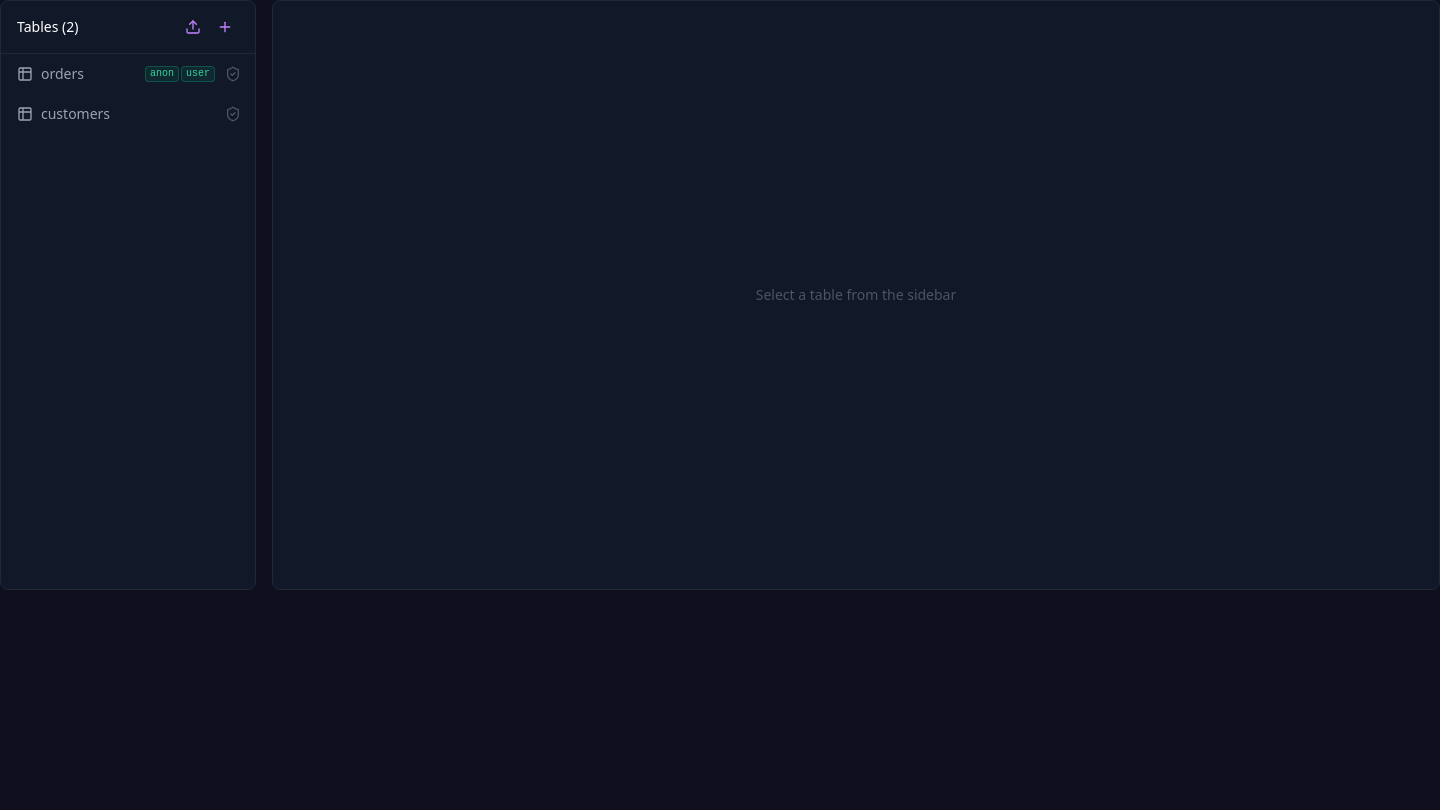
create table with public read › unchecked: the table is created and no permission is written
The width and height of the screenshot is (1440, 810).
Click the button with test id "new-table-btn" at (225, 27), box [211, 13, 239, 41]
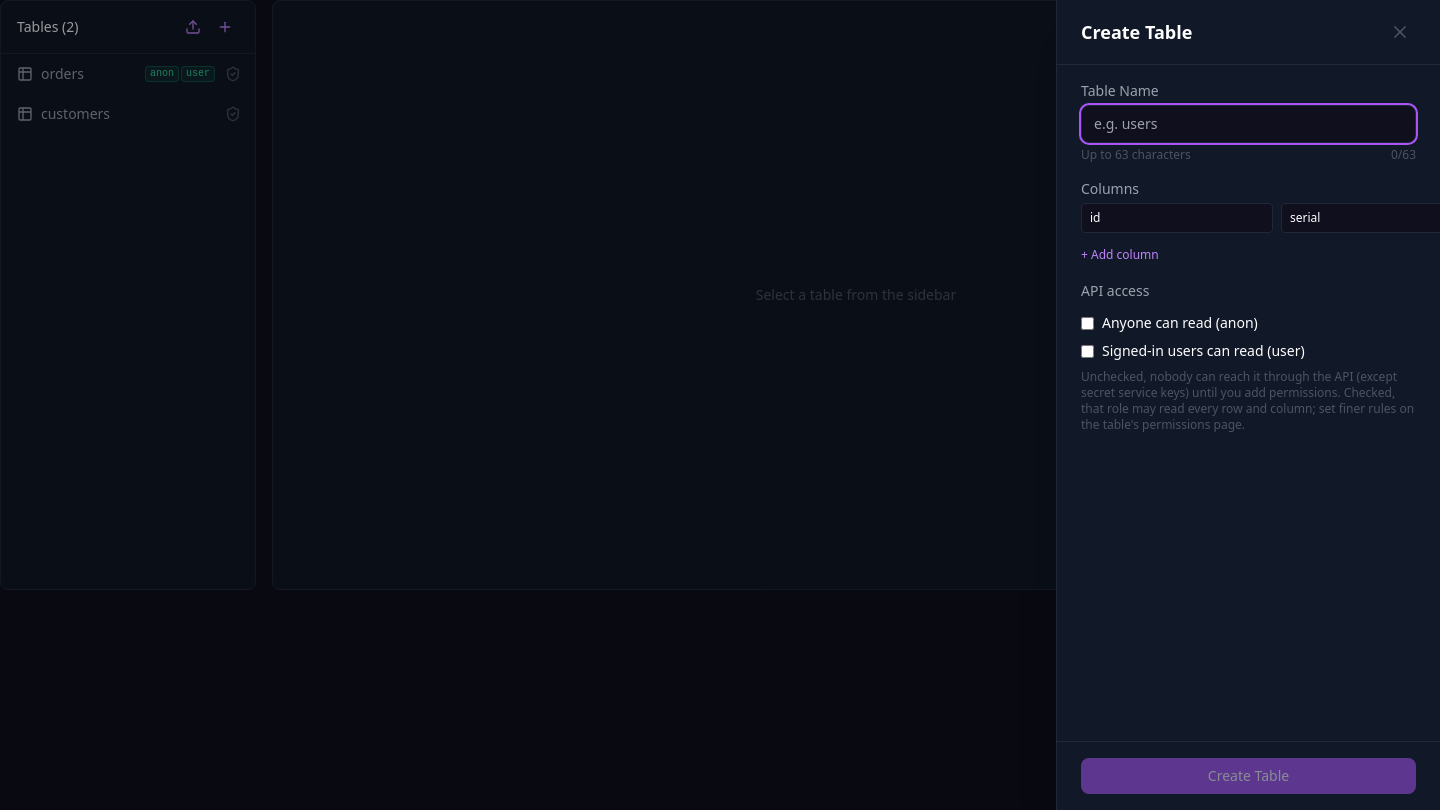
Type "notes" into the field with test id "table-name-input" at (1248, 124), box [1081, 105, 1416, 143]
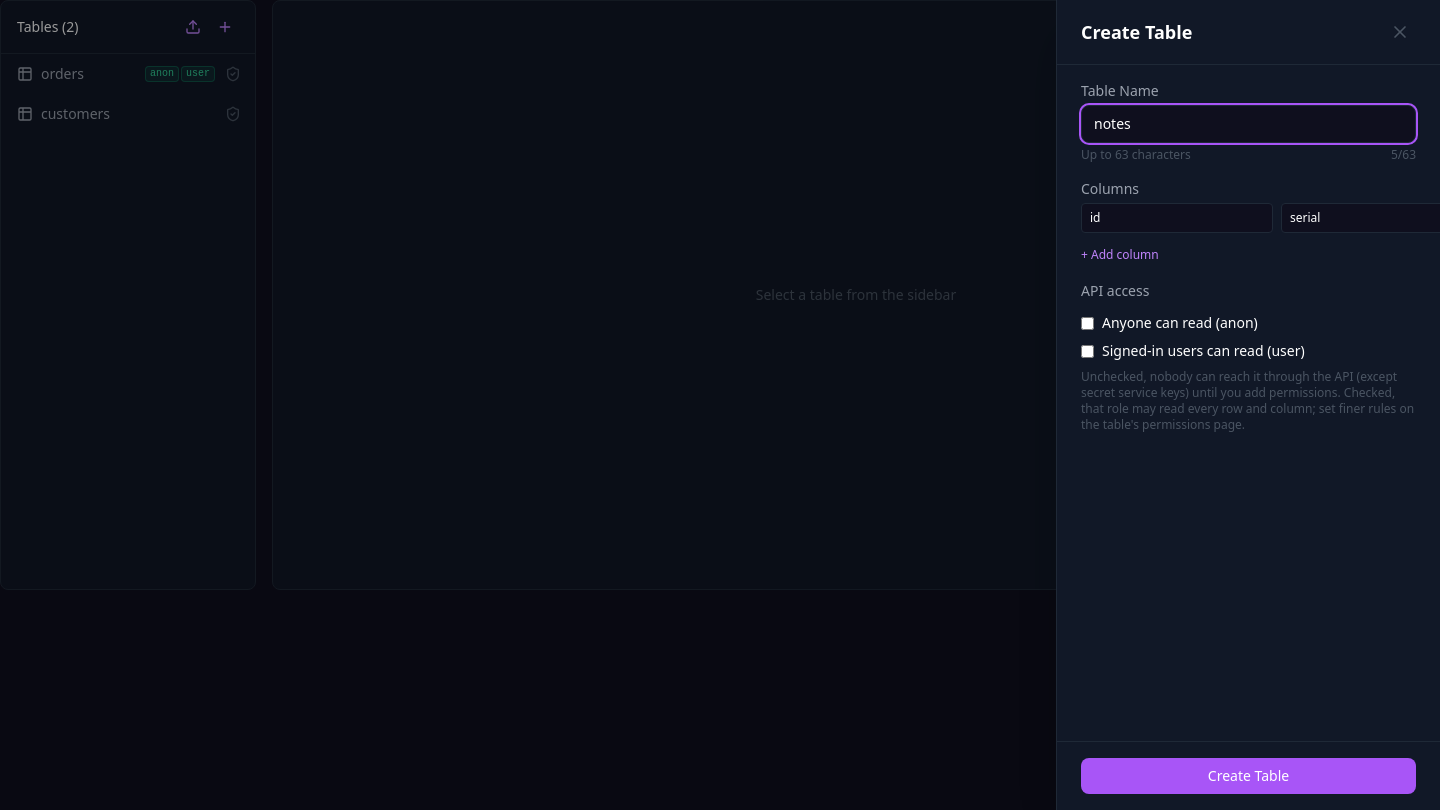
Click the button with test id "create-table-submit" at (1248, 776), box [1081, 758, 1416, 794]
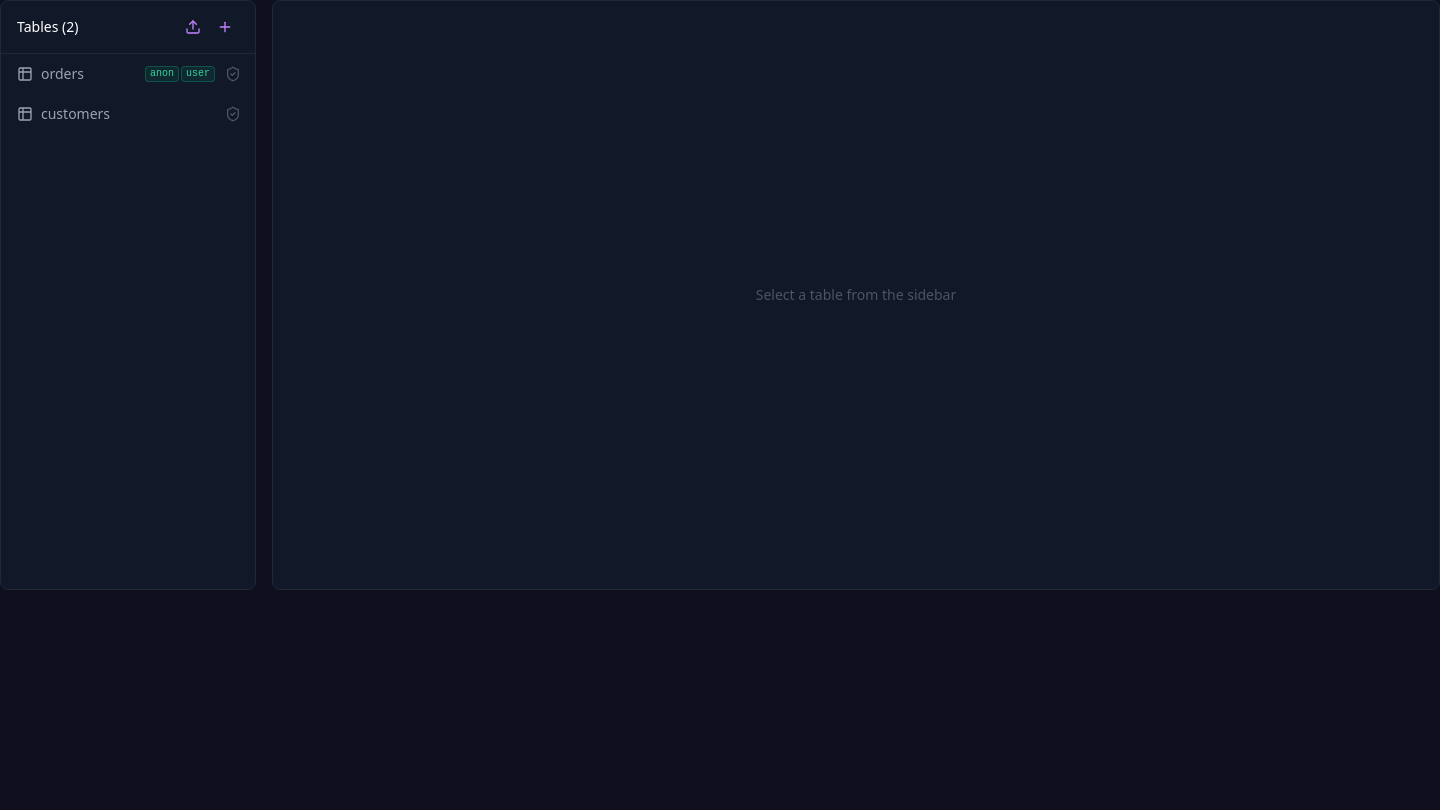
Expected: the element with test id "sidepanel" is gone
